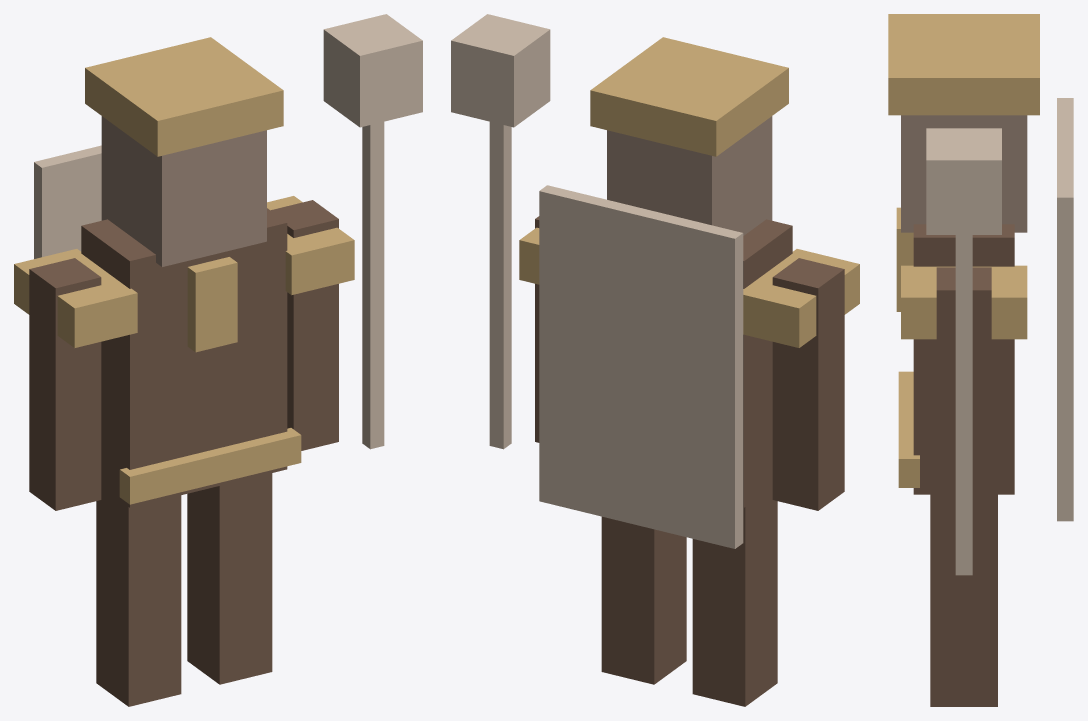
Rendered from 01_ossa_gravesong_fixer_of_sonic.glb.
The picture shows the model from 3 angles, left to right: view 1: azimuth 30°, elevation 25°; view 2: azimuth 150°, elevation 25°; view 3: azimuth 270°, elevation 25°; orthographic projection. The views are drawn at different scales.
Parts seen in each view (by area): view 1: Ossa Gravesong, Fixer of Sonic; view 2: Ossa Gravesong, Fixer of Sonic; view 3: Ossa Gravesong, Fixer of Sonic.
Part boxes in pixels (box(x1,y1,x2,y2)): Ossa Gravesong, Fixer of Sonic: box(14, 14, 422, 706); Ossa Gravesong, Fixer of Sonic: box(451, 14, 859, 706); Ossa Gravesong, Fixer of Sonic: box(888, 14, 1073, 706).
Bounding box in the file's own units: 1.03 × 1.63 × 0.439.
